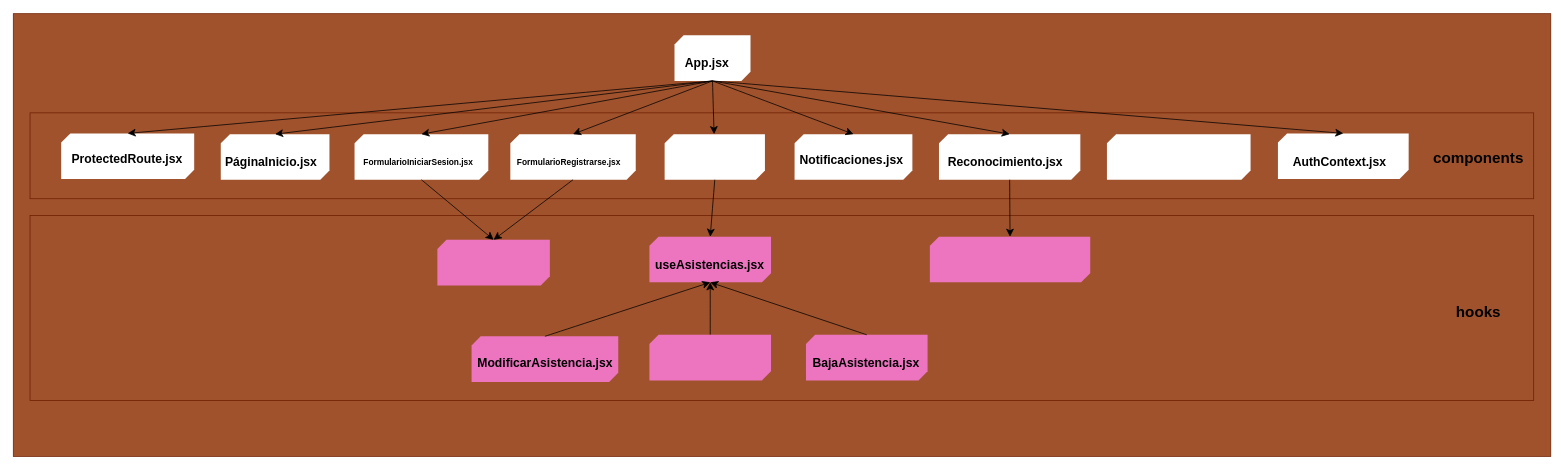
The diagram is 1564 pixels wide and 470 high, and some of its shapes have lost their labels. The shapes that lost their labels are listed below. From the top down, each one's centre as x and y in pixels, then its label:
At (714,156): "Asistencia.jsx".
At (1178,156): "CameraComponent.jsx".
At (493,262): "useUsuario.jsx".
At (1009,259): "CamaraComponent.jsx".
At (710,357): "AltaAsistencia.jsx".
